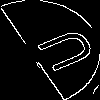U: (25, 25, 99, 79)
